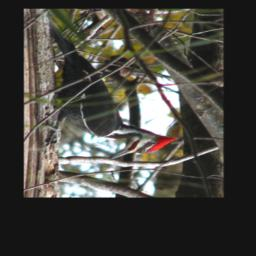Woodpecker: (42, 23, 178, 160)
